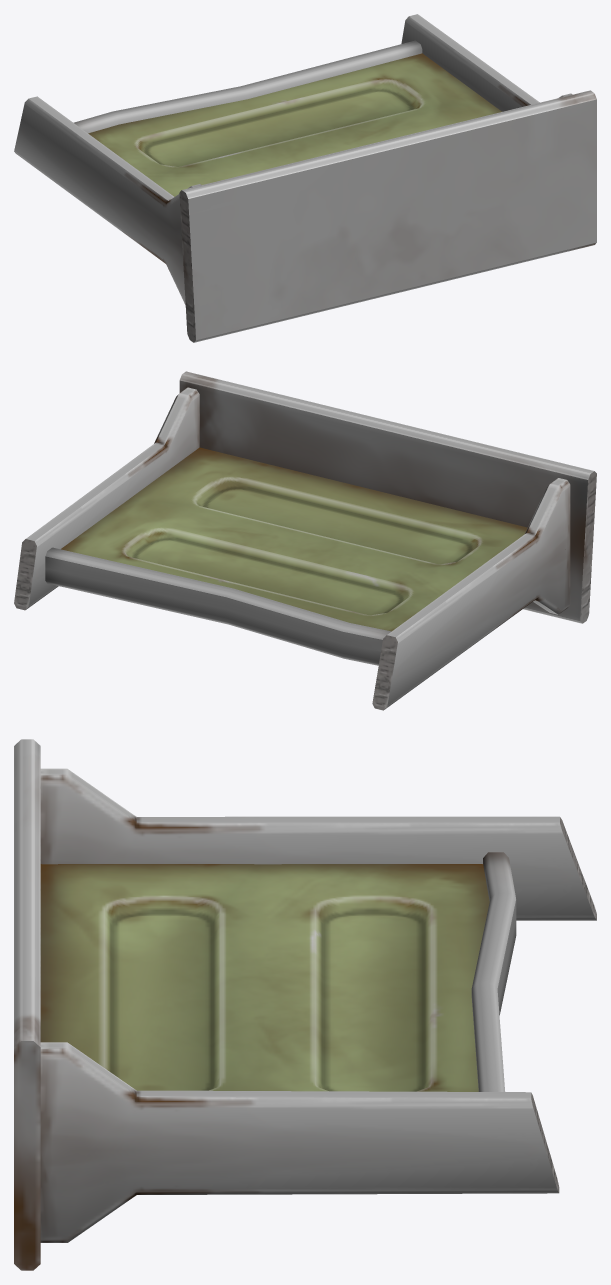
File: HubWall3.FBX
3 views of the same model, one above another, from view 1: azimuth 30°, elevation 25°; view 2: azimuth 150°, elevation 25°; view 3: azimuth 270°, elevation 25° (orthographic). The views are drawn at different scales.
Parts seen in each view (by area): view 1: HubWall3_LOD0; view 2: HubWall3_LOD0; view 3: HubWall3_LOD0.
Part boxes in pixels (x1,y1,x2,y2): HubWall3_LOD0: (14,14,596,342); HubWall3_LOD0: (14,371,596,710); HubWall3_LOD0: (14,739,596,1270).
Size of what is drawn, in the model's own units: 5.45 by 1.94 by 4.46.
